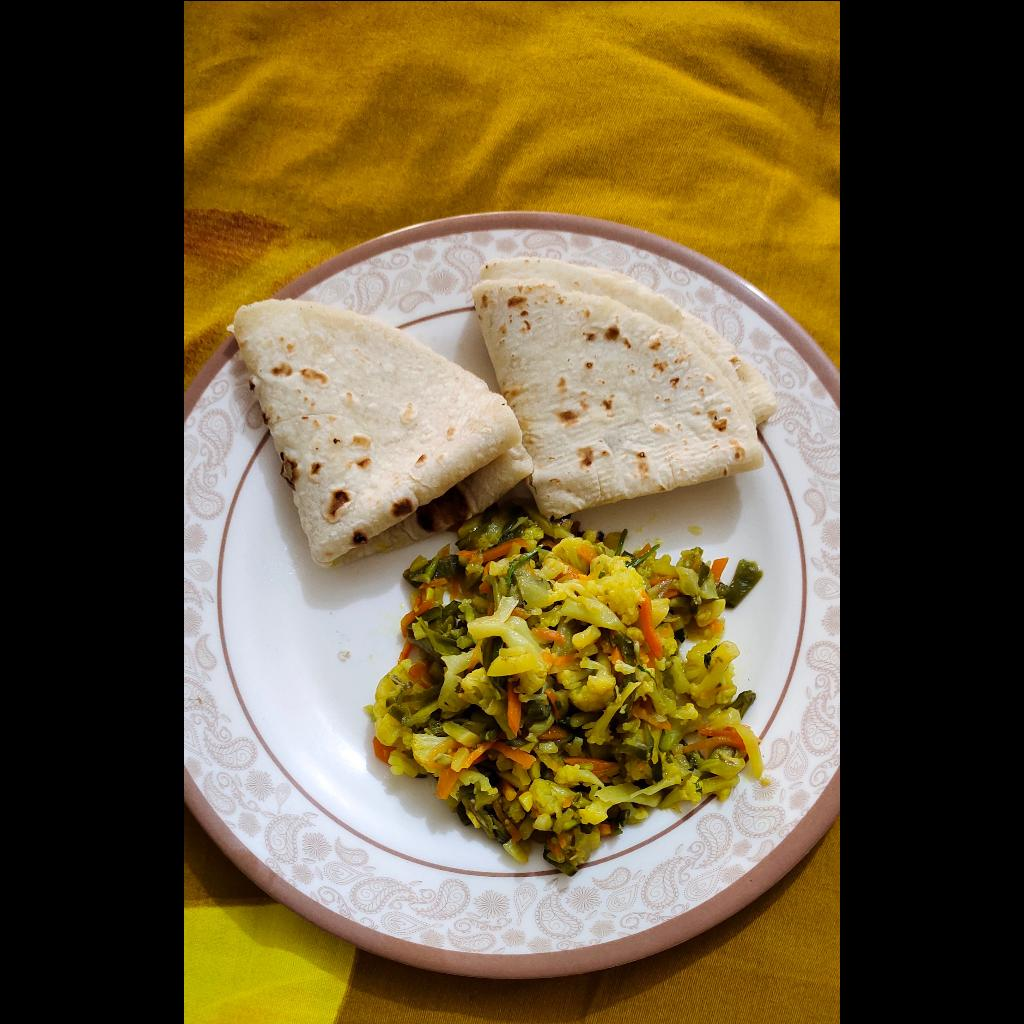ruti: (235, 247, 775, 582)
vegetable: (363, 493, 769, 871)
